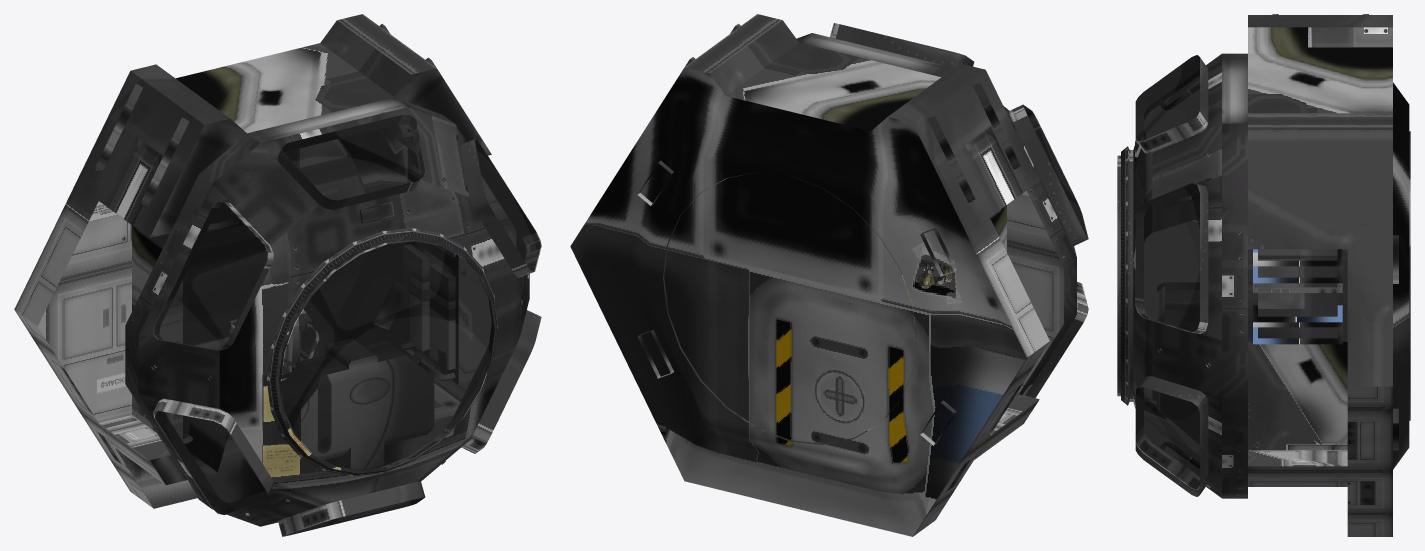
3 renders of one model, left to right at view 1: azimuth 30°, elevation 25°; view 2: azimuth 150°, elevation 25°; view 3: azimuth 270°, elevation 25°, orthographic. The views are drawn at different scales.
Visible parts, largest first — view 1: obj_internal, obj_windows, Seat002, obj_pipes; view 2: obj_internal, obj_windows; view 3: obj_internal, obj_windows, obj_pipes.
Part boxes in pixels (x1,y1,x2,y2): obj_internal: (14, 14, 541, 536); obj_windows: (154, 115, 540, 536); Seat002: (229, 309, 318, 384); obj_pipes: (134, 127, 528, 515); obj_internal: (570, 14, 1088, 536); obj_windows: (1023, 105, 1087, 237); obj_internal: (1117, 14, 1410, 536); obj_windows: (1135, 55, 1199, 489); obj_pipes: (1158, 83, 1341, 487).
Bounding box in the file's own units: 4 × 3.47 × 2.24.
Materials: 3 (3 with a texture image).
